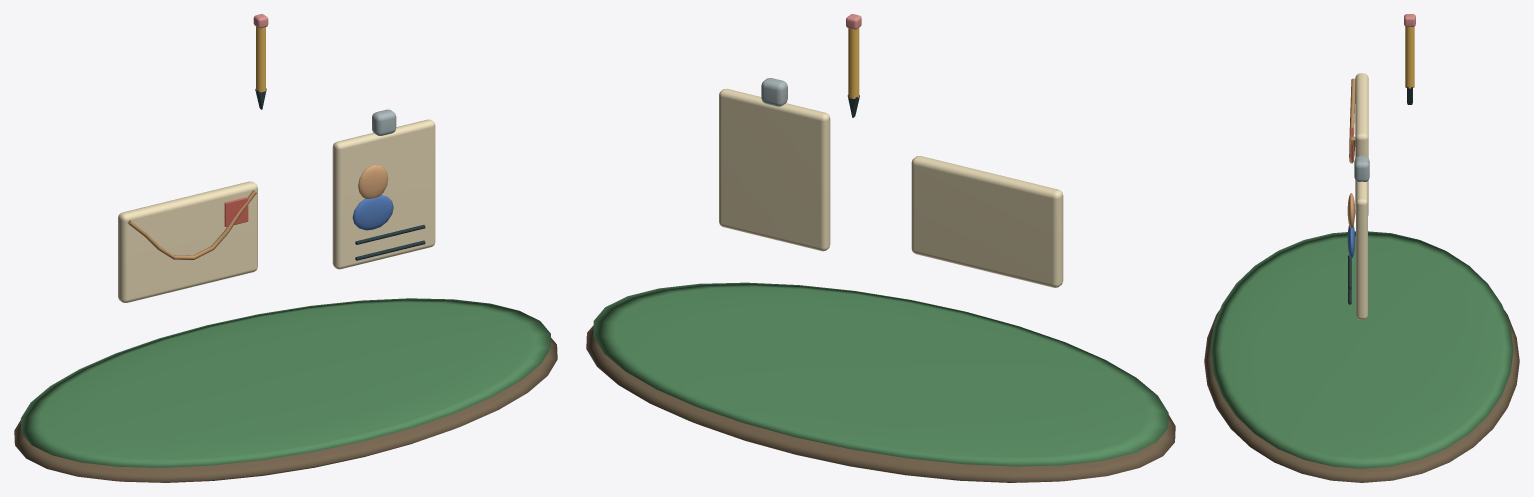
The model's file is complete-third-reporting-name.glb.
The picture shows the model from 3 angles, left to right: view 1: azimuth 30°, elevation 25°; view 2: azimuth 150°, elevation 25°; view 3: azimuth 270°, elevation 25°; orthographic projection. The views are drawn at different scales.
Parts seen in each view (by area): view 1: complete-third-reporting-name_surface_01, complete-third-reporting-name_surface_02, complete-third-reporting-name_surface_00, complete-third-reporting-name_surface_07, complete-third-reporting-name_surface_06, complete-third-reporting-name_surface_03, complete-third-reporting-name_surface_08, complete-third-reporting-name_surface_09, complete-third-reporting-name_surface_05; view 2: complete-third-reporting-name_surface_01, complete-third-reporting-name_surface_02, complete-third-reporting-name_surface_00, complete-third-reporting-name_surface_09, complete-third-reporting-name_surface_05; view 3: complete-third-reporting-name_surface_01, complete-third-reporting-name_surface_00, complete-third-reporting-name_surface_02, complete-third-reporting-name_surface_09, complete-third-reporting-name_surface_03, complete-third-reporting-name_surface_05.
Boxes of the visible parts, left/top/right/bottom form: complete-third-reporting-name_surface_01: left=20, top=298, right=551, bottom=467; complete-third-reporting-name_surface_02: left=118, top=119, right=435, bottom=302; complete-third-reporting-name_surface_00: left=14, top=338, right=557, bottom=482; complete-third-reporting-name_surface_07: left=352, top=195, right=393, bottom=230; complete-third-reporting-name_surface_06: left=358, top=165, right=388, bottom=198; complete-third-reporting-name_surface_03: left=127, top=190, right=256, bottom=259; complete-third-reporting-name_surface_08: left=255, top=88, right=425, bottom=260; complete-third-reporting-name_surface_09: left=256, top=26, right=265, bottom=92; complete-third-reporting-name_surface_05: left=372, top=109, right=396, bottom=135; complete-third-reporting-name_surface_01: left=593, top=282, right=1168, bottom=466; complete-third-reporting-name_surface_02: left=719, top=88, right=1063, bottom=287; complete-third-reporting-name_surface_00: left=586, top=325, right=1175, bottom=482; complete-third-reporting-name_surface_09: left=848, top=27, right=859, bottom=98; complete-third-reporting-name_surface_05: left=761, top=78, right=787, bottom=106; complete-third-reporting-name_surface_01: left=1210, top=231, right=1513, bottom=468; complete-third-reporting-name_surface_00: left=1204, top=310, right=1519, bottom=482; complete-third-reporting-name_surface_02: left=1355, top=73, right=1368, bottom=319; complete-third-reporting-name_surface_09: left=1405, top=26, right=1414, bottom=88; complete-third-reporting-name_surface_03: left=1349, top=78, right=1355, bottom=163; complete-third-reporting-name_surface_05: left=1354, top=156, right=1369, bottom=181.
Size of the model in its own units: 4.56 by 3.15 by 2.5.
